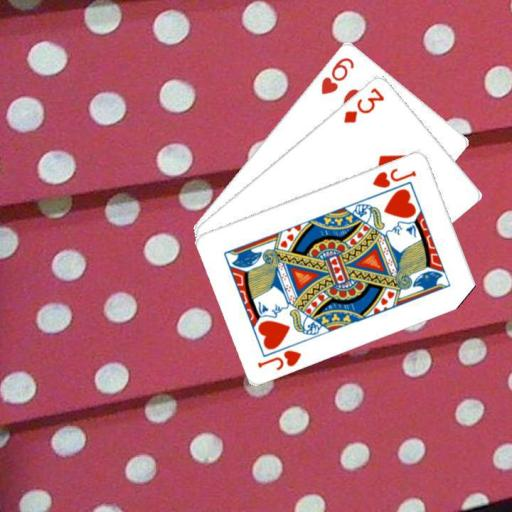3D: (340, 84, 386, 125)
6H: (317, 53, 356, 96)
JH: (369, 164, 418, 189), (255, 347, 303, 372)
